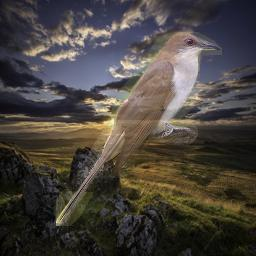Cuckoo: (56, 32, 222, 226)
